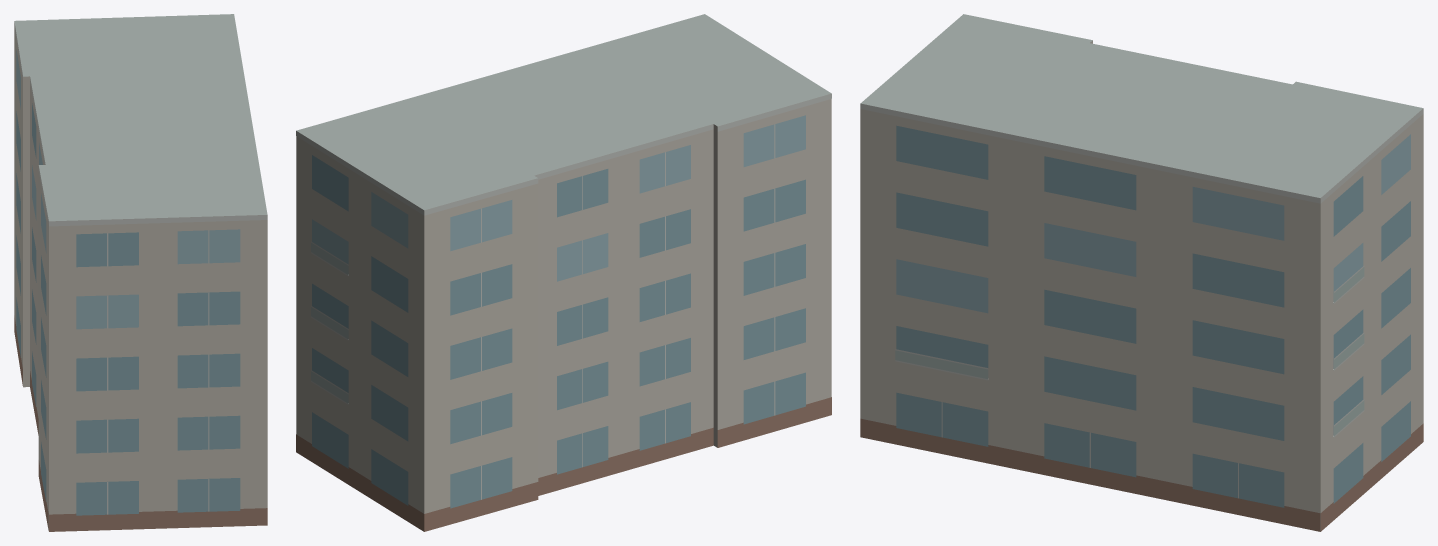
Rendered from survey-upis-32529868.glb.
The picture shows the model from 3 angles, left to right: view 1: azimuth 30°, elevation 25°; view 2: azimuth 150°, elevation 25°; view 3: azimuth 270°, elevation 25°; orthographic projection. The views are drawn at different scales.
Visible parts, largest first — view 1: survey-upis-32529868.tmp; view 2: survey-upis-32529868.tmp; view 3: survey-upis-32529868.tmp.
Boxes of the visible parts, x1,y1,x2,y2 form: survey-upis-32529868.tmp: (14,14,267,531); survey-upis-32529868.tmp: (296,14,831,531); survey-upis-32529868.tmp: (860,14,1423,531).
Bounding box in the file's own units: 17.53 × 14.8 × 22.65.
